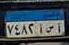2: (28, 22, 35, 34)
4: (14, 24, 21, 36)
7: (6, 24, 14, 35)
8: (22, 23, 27, 35)
alif: (39, 23, 43, 34), (57, 22, 60, 33)
seen: (45, 25, 54, 33)
